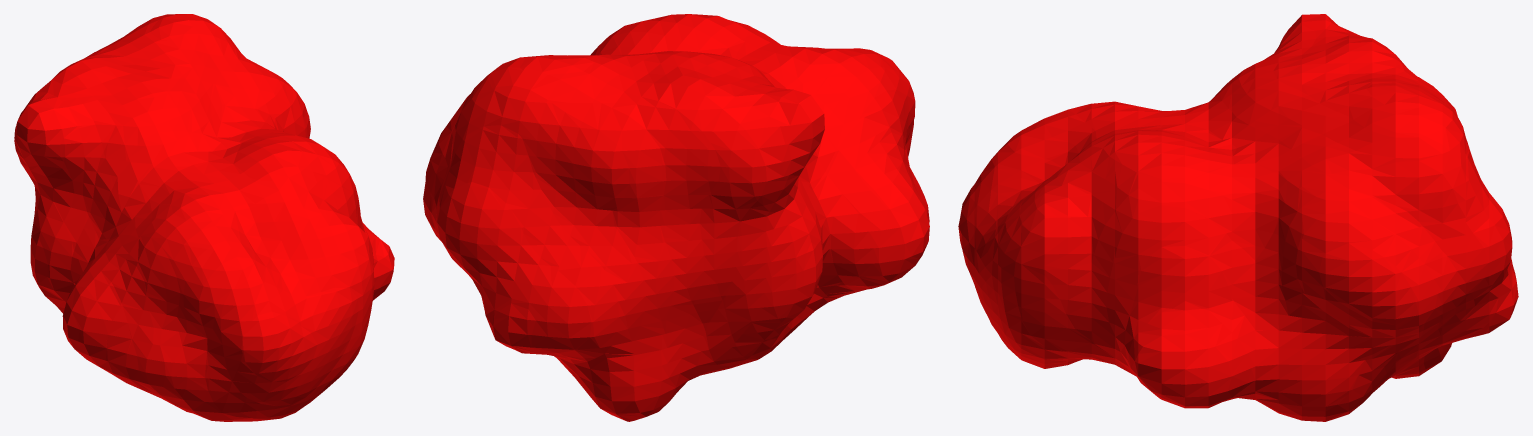
The model's file is tsaB_coarse.dae.
3 views of the same model, side by side, from view 1: azimuth 30°, elevation 25°; view 2: azimuth 150°, elevation 25°; view 3: azimuth 270°, elevation 25° (orthographic). The views are drawn at different scales.
Visible parts, largest first — view 1: tsaB; view 2: tsaB; view 3: tsaB.
Part boxes in pixels (left/top/right/bottom): tsaB: left=14, top=14, right=394, bottom=421; tsaB: left=423, top=14, right=929, bottom=421; tsaB: left=958, top=14, right=1518, bottom=421.
Bounding box in the file's own units: 44.86 × 37.18 × 58.73.
